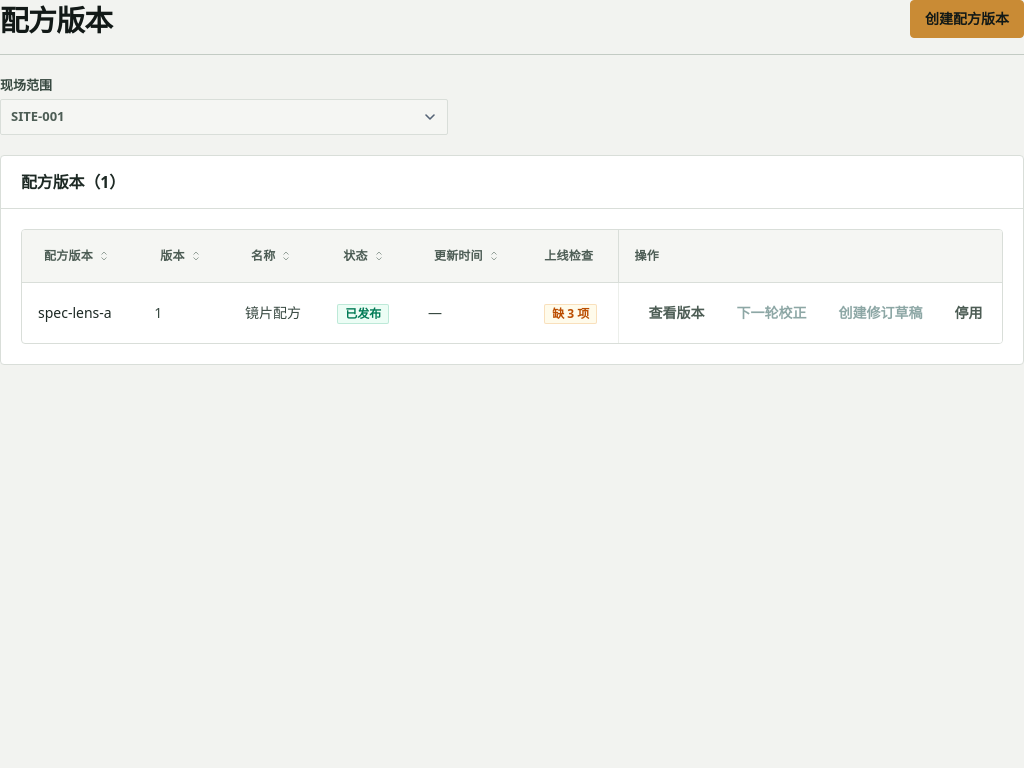
Test: 生产界面状态反馈 › 在配方版本列表列出缺少的上线依赖并直达修复页面
This screenshot has width=1024, height=768.
Click the button named "查看 spec-lens-a V1 的上线检查": (571, 313) [544, 302, 597, 324]
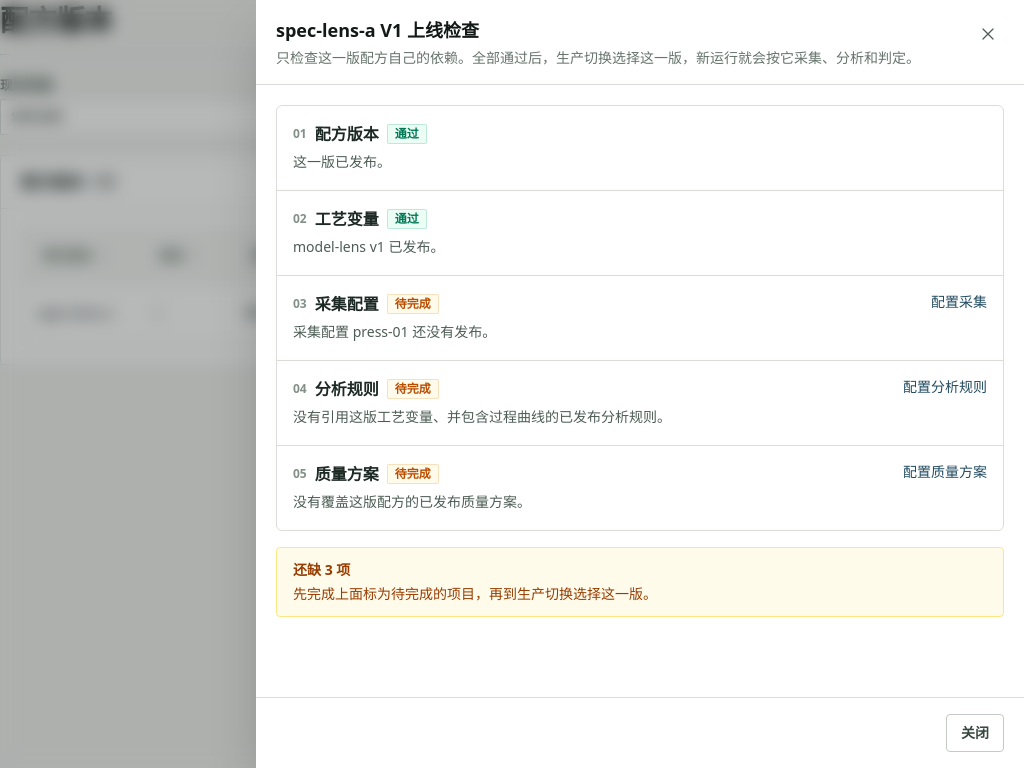
Expected: the text "采集配置 press-01 还没有发布。" is shown, [293, 320, 496, 344]
